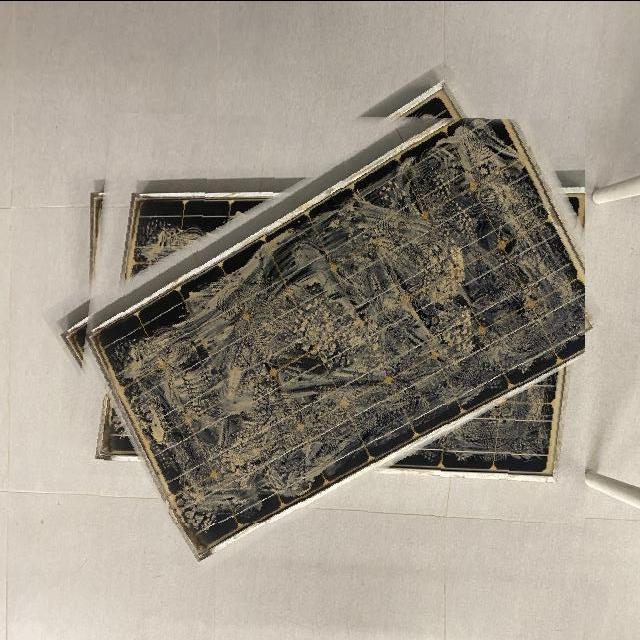Dusty: (108, 116, 587, 545), (402, 375, 563, 464), (124, 219, 225, 274)
